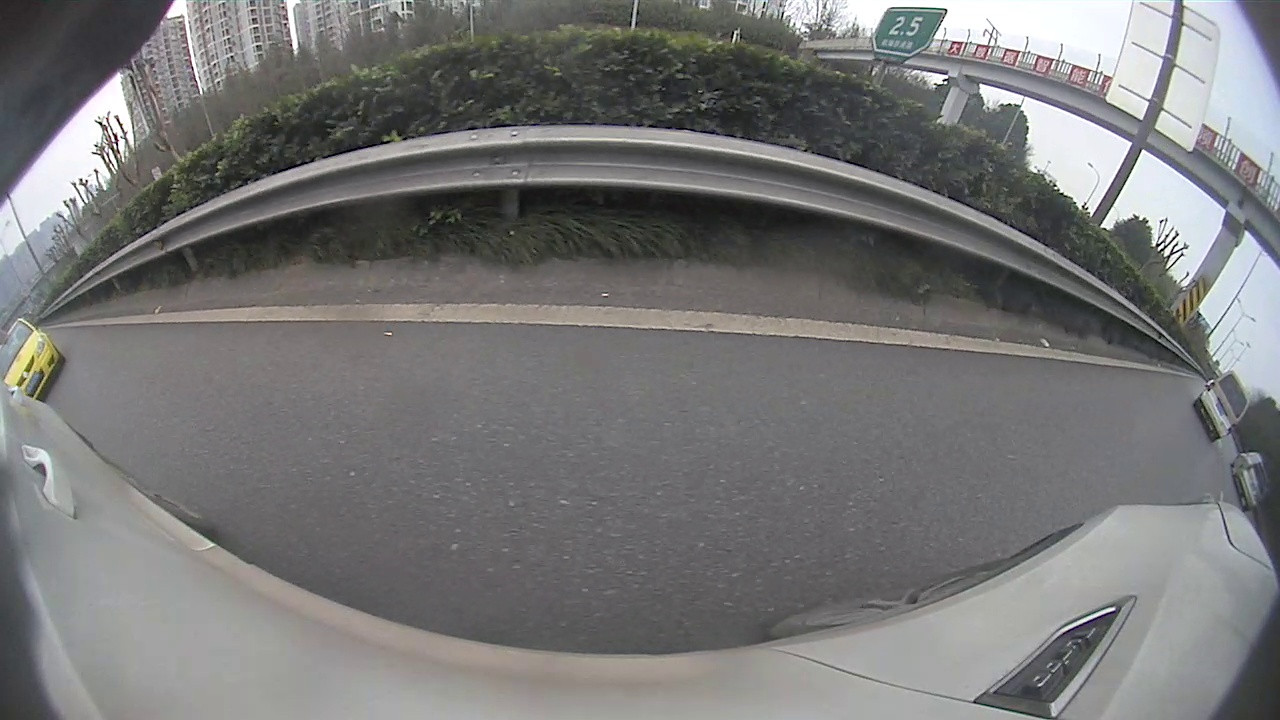car: (1, 317, 66, 402), (1193, 372, 1251, 442), (1230, 450, 1265, 514)
